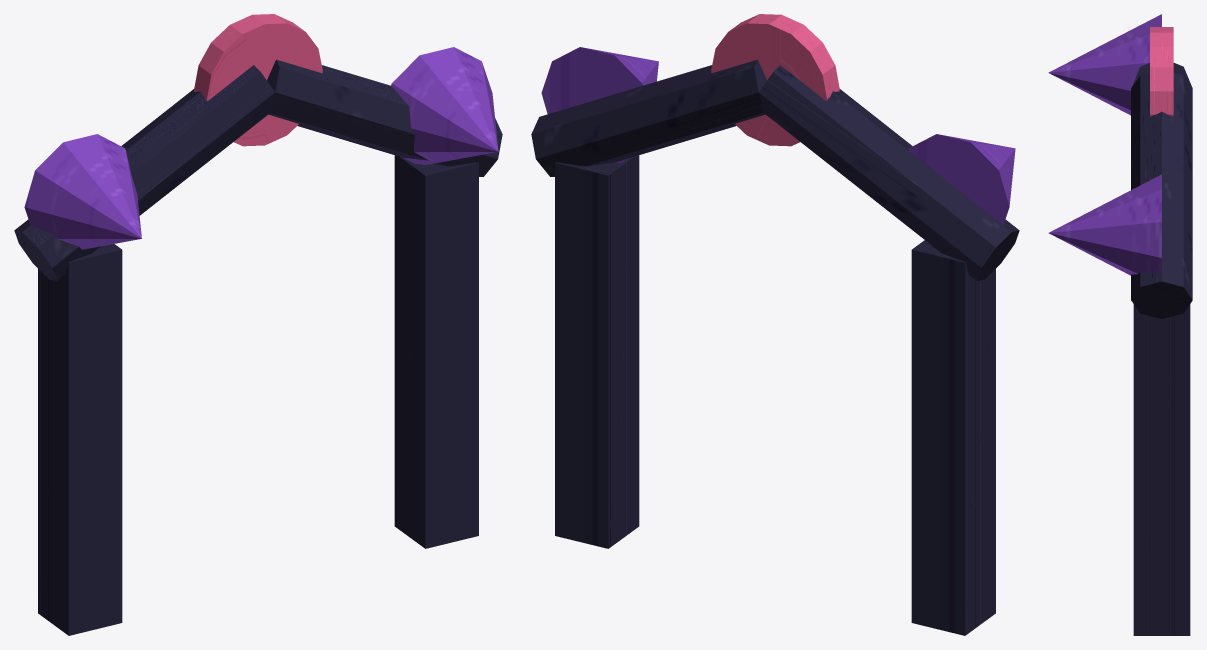
The model's file is yomi_rift_gate_lod0.glb.
3 renders of one model, left to right at view 1: azimuth 30°, elevation 25°; view 2: azimuth 150°, elevation 25°; view 3: azimuth 270°, elevation 25°, orthographic. The views are drawn at different scales.
Parts seen in each view (by area): view 1: obsidian_2, obsidian_0, obsidian_4, rift_1, obsidian_5, rift_3, ember_6; view 2: obsidian_2, obsidian_0, obsidian_4, obsidian_5, ember_6, rift_1, rift_3; view 3: obsidian_2, obsidian_5, rift_3, rift_1, ember_6, obsidian_4.
Boxes of the visible parts, x1,y1,x2,y2 form: obsidian_2: [394, 155, 478, 548]; obsidian_0: [38, 244, 122, 635]; obsidian_4: [14, 65, 274, 280]; rift_1: [24, 134, 141, 249]; obsidian_5: [267, 59, 502, 176]; rift_3: [391, 47, 498, 164]; ember_6: [194, 14, 322, 146]; obsidian_2: [555, 155, 639, 548]; obsidian_0: [911, 240, 995, 635]; obsidian_4: [759, 65, 1019, 280]; obsidian_5: [531, 59, 766, 176]; ember_6: [711, 14, 839, 146]; rift_1: [908, 134, 1015, 225]; rift_3: [541, 47, 658, 163]; obsidian_2: [1133, 304, 1190, 635]; obsidian_5: [1131, 73, 1192, 318]; rift_3: [1048, 174, 1161, 275]; rift_1: [1048, 14, 1161, 115]; ember_6: [1150, 27, 1173, 116]; obsidian_4: [1131, 63, 1192, 87].
Size of the model in its own units: 10.6 by 11.9 by 3.05.
3 materials, 3 textured.
